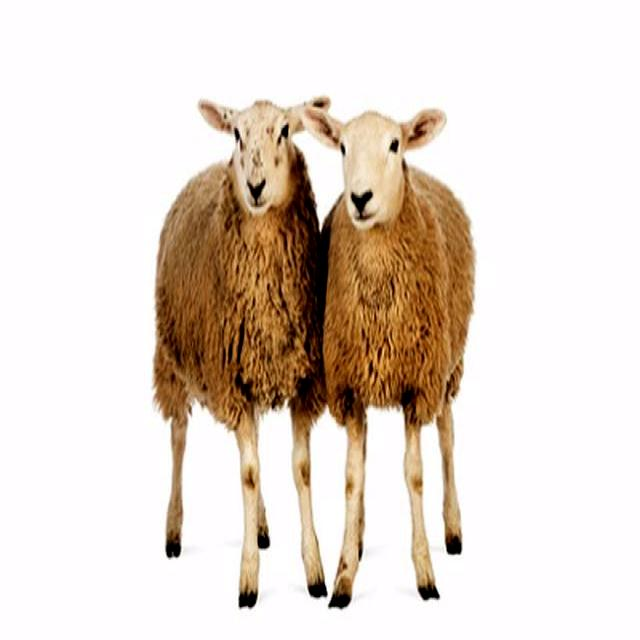sheep: (151, 102, 328, 610), (301, 105, 480, 606)
